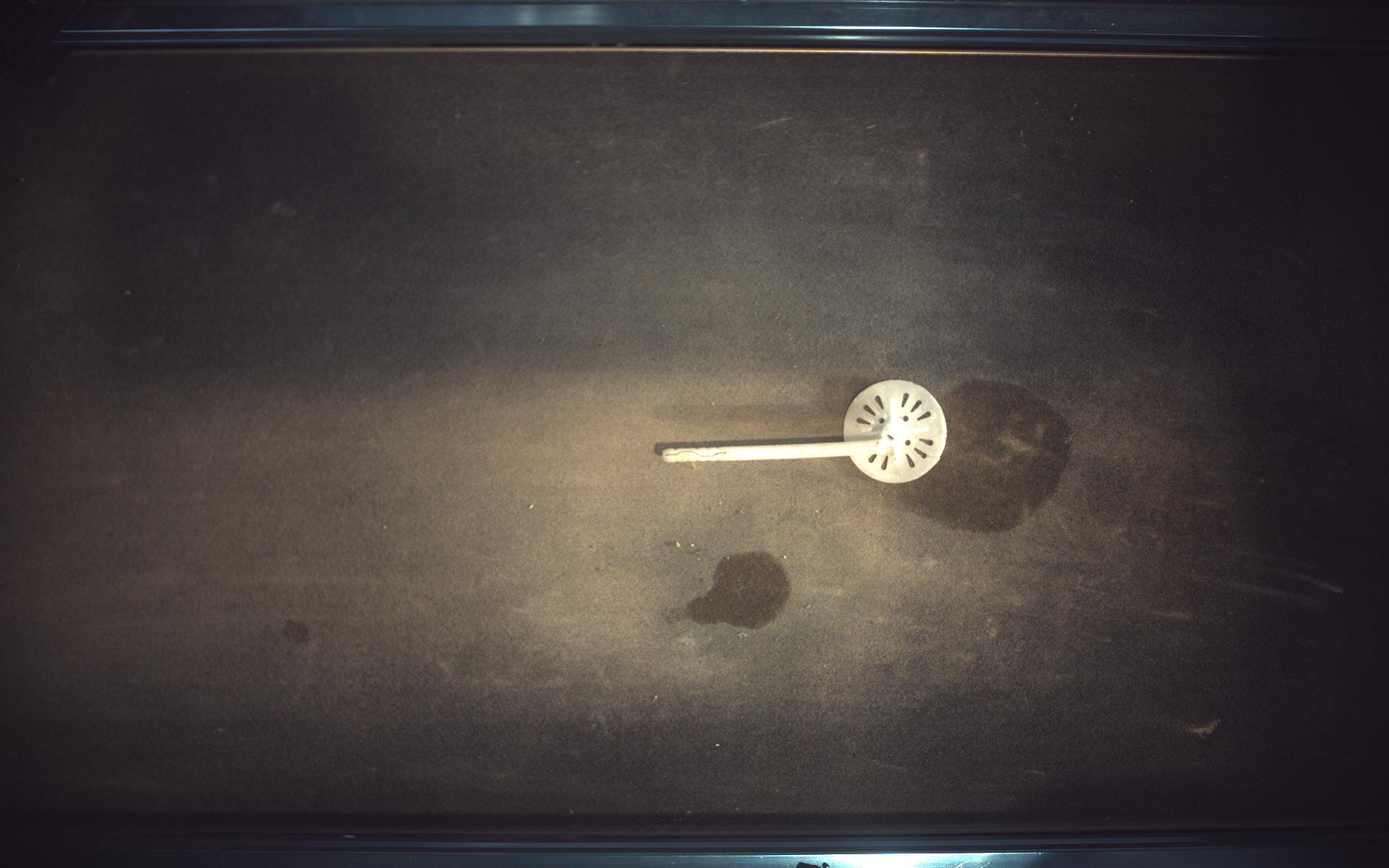plastic: (658, 380, 948, 484)
